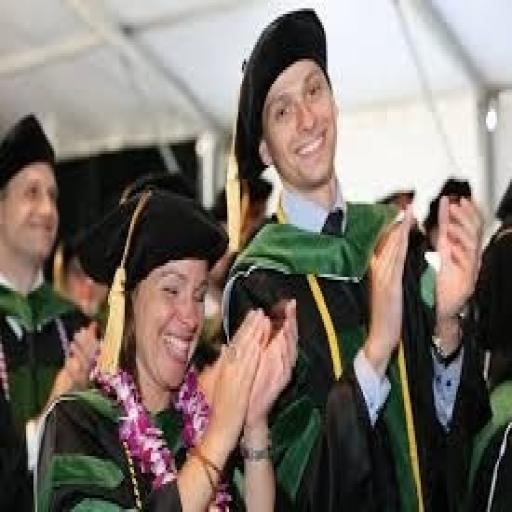clapping: (208, 22, 490, 512), (34, 176, 300, 509), (0, 109, 101, 509)
